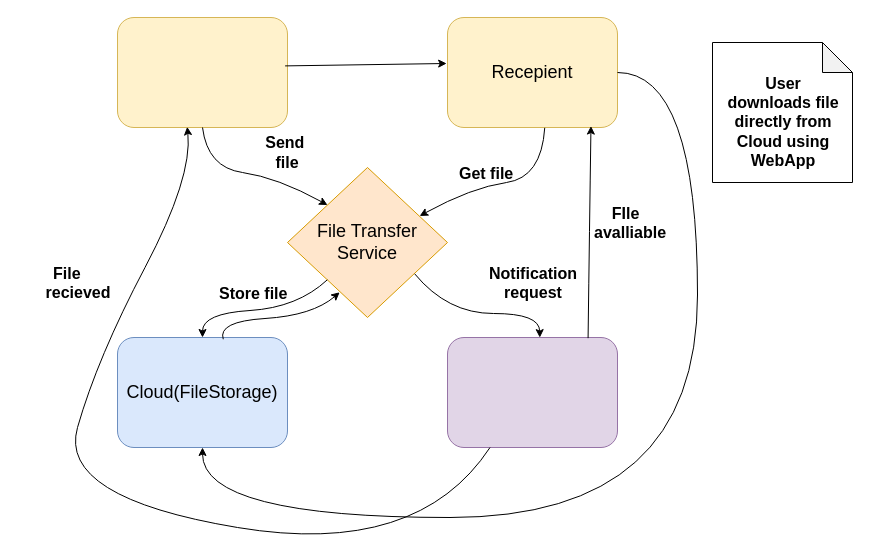
Some shapes in this 870 by 552 pixel diagram are drawn without their labels. Here are the shapes that lost their labels. From the top down, the centre of each, then its label:
the point at 202,72: Sender
the point at 532,392: Email Service
